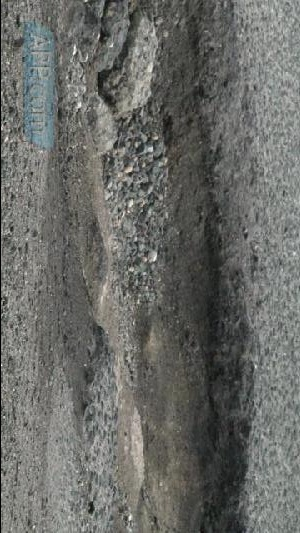pothole: (55, 0, 262, 532)
